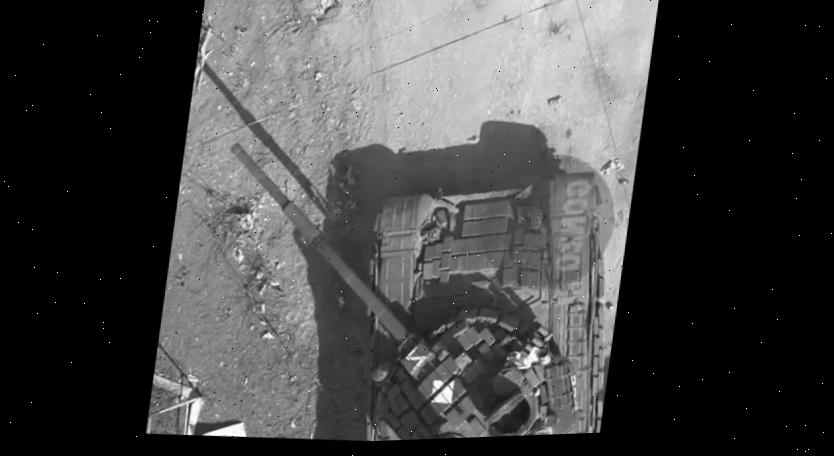tank: (188, 125, 639, 448)
